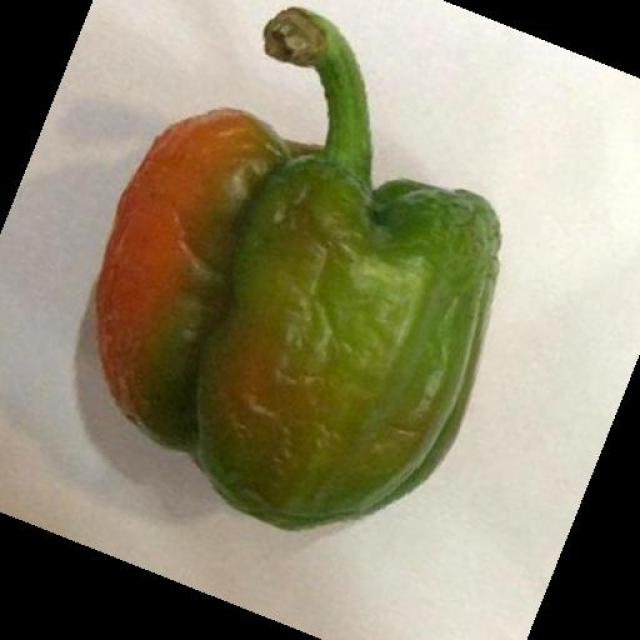Stale_Capsicum: (108, 31, 514, 536)
